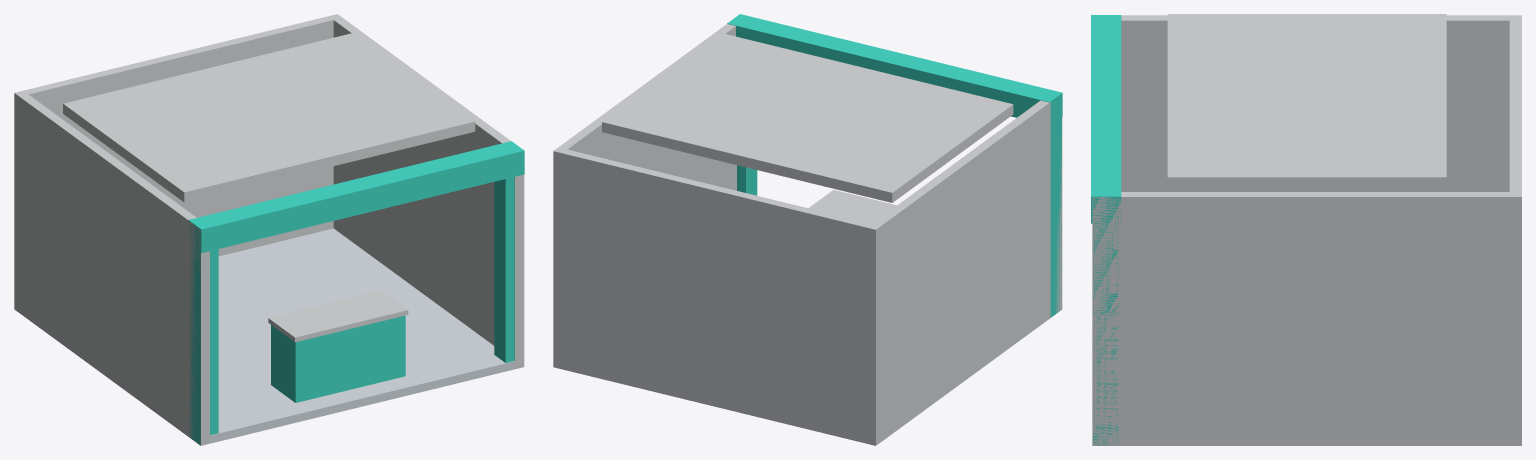
3 renders of one model, left to right at view 1: azimuth 30°, elevation 25°; view 2: azimuth 150°, elevation 25°; view 3: azimuth 270°, elevation 25°, orthographic. The views are drawn at different scales.
Parts seen in each view (by area): view 1: Exhibition Booth Concept; view 2: Exhibition Booth Concept; view 3: Exhibition Booth Concept.
Part boxes in pixels (left/top/right/bottom): Exhibition Booth Concept: left=14, top=14, right=524, bottom=445; Exhibition Booth Concept: left=553, top=14, right=1062, bottom=445; Exhibition Booth Concept: left=1091, top=14, right=1521, bottom=445.
Size of the model in its own units: 5 by 3.34 by 5.02.
